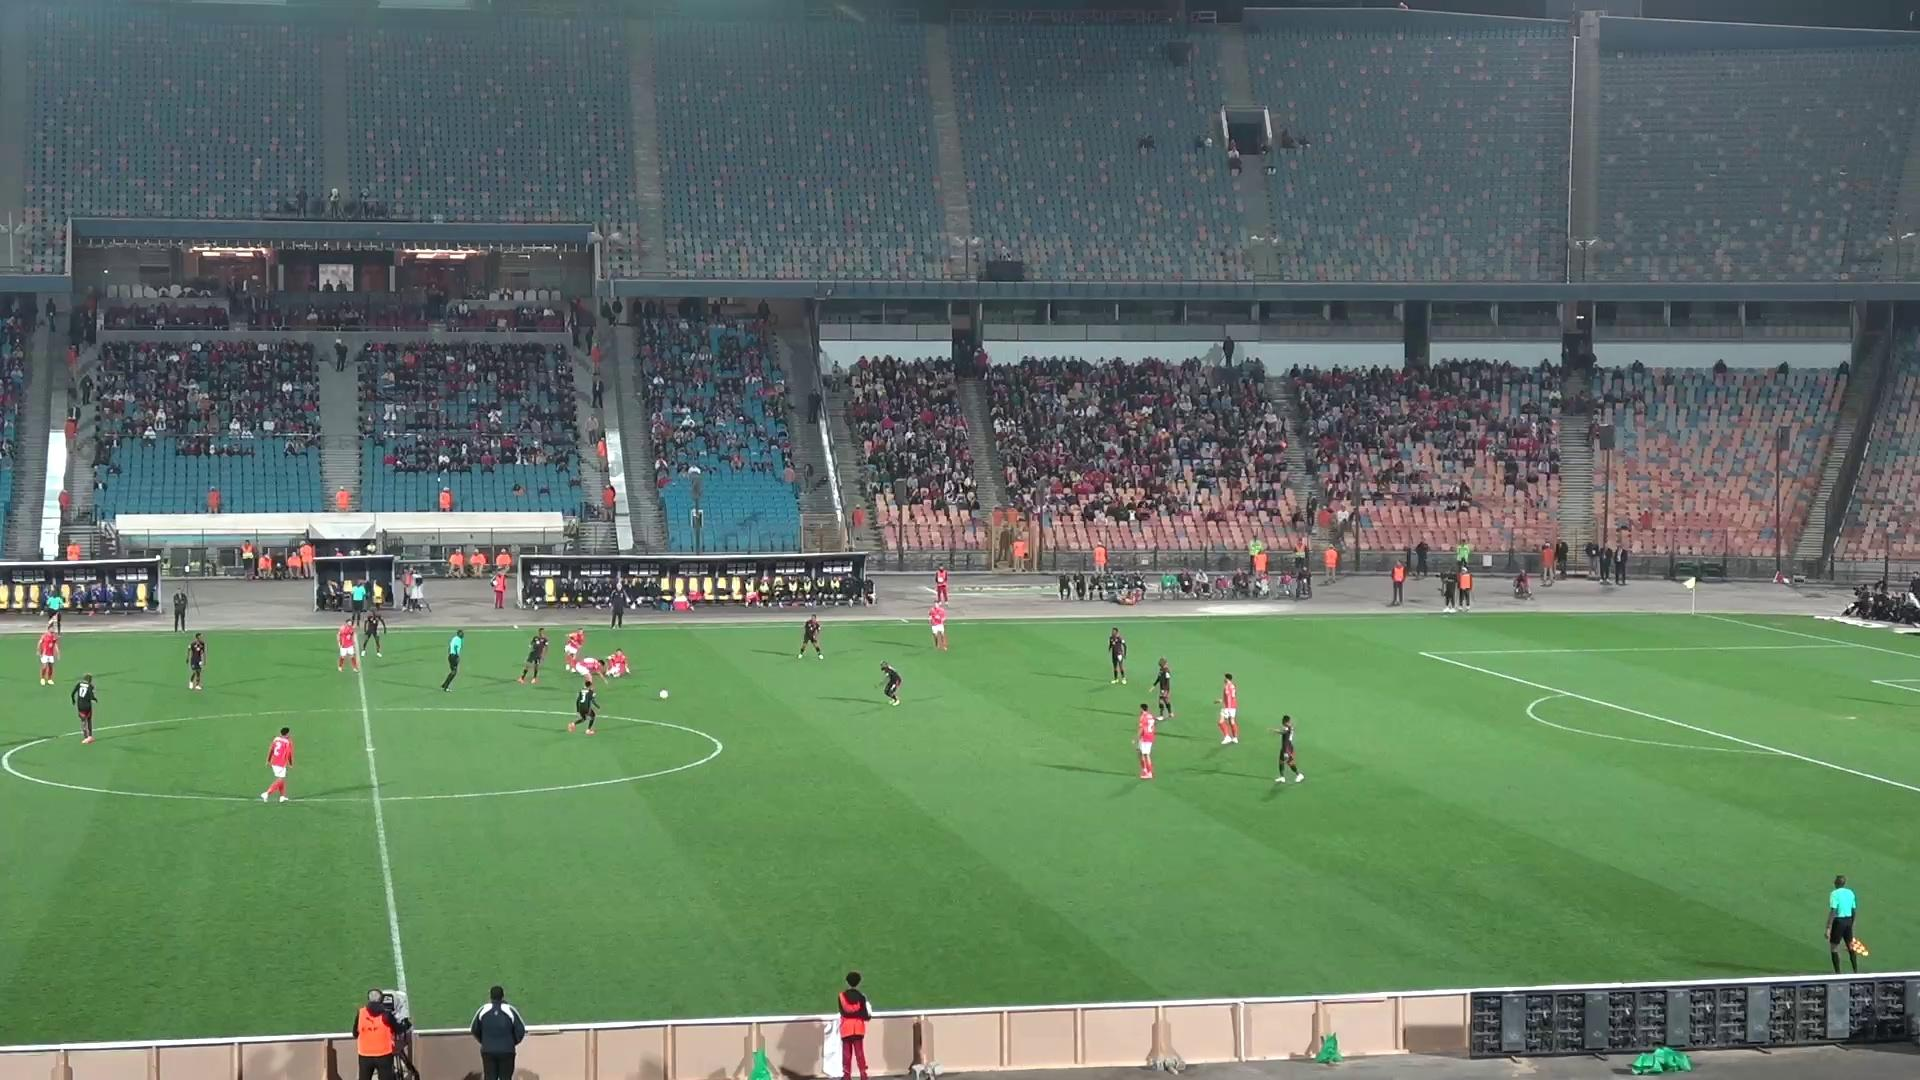Ball: (657, 688, 670, 699)
Refree: (1824, 876, 1869, 969), (439, 630, 465, 692), (45, 585, 66, 634), (349, 579, 368, 624)
Team1: (258, 728, 295, 799), (1131, 703, 1162, 779), (1216, 673, 1240, 744), (36, 617, 61, 684), (336, 620, 364, 671), (924, 603, 949, 650), (563, 628, 585, 671), (601, 647, 632, 678), (575, 655, 605, 686)
Team2: (1274, 715, 1304, 783), (70, 674, 98, 744), (516, 626, 549, 684), (566, 679, 600, 732), (181, 632, 208, 691), (1150, 657, 1174, 719), (359, 608, 386, 655), (795, 615, 824, 659), (1106, 626, 1127, 684), (880, 662, 902, 705)
